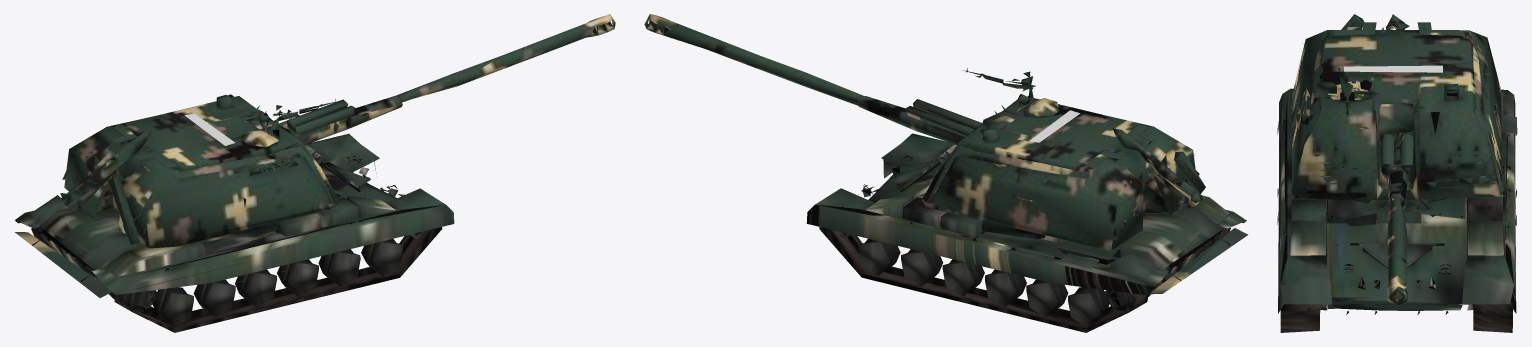
The model's file is msta_lo.glb.
3 renders of one model, left to right at view 1: azimuth 30°, elevation 25°; view 2: azimuth 150°, elevation 25°; view 3: azimuth 270°, elevation 25°, orthographic. The views are drawn at different scales.
Parts seen in each view (by area): view 1: g_msta_hull, g_msta_turret, g_msta_gun; view 2: g_msta_hull, g_msta_turret, g_msta_gun; view 3: g_msta_turret, g_msta_hull, g_msta_gun.
Boxes of the visible parts, box(x1,y1,x2,y2) form: g_msta_hull: box(15, 98, 454, 332); g_msta_turret: box(60, 14, 615, 248); g_msta_gun: box(250, 99, 356, 175); g_msta_hull: box(806, 94, 1248, 332); g_msta_turret: box(644, 14, 1205, 250); g_msta_gun: box(905, 99, 983, 136); g_msta_turret: box(1290, 14, 1505, 304); g_msta_hull: box(1277, 79, 1517, 332); g_msta_gun: box(1301, 87, 1413, 174).
Size of the model in its own units: 11.9 by 3.65 by 3.69.
Materials: 4 (3 with a texture image).
